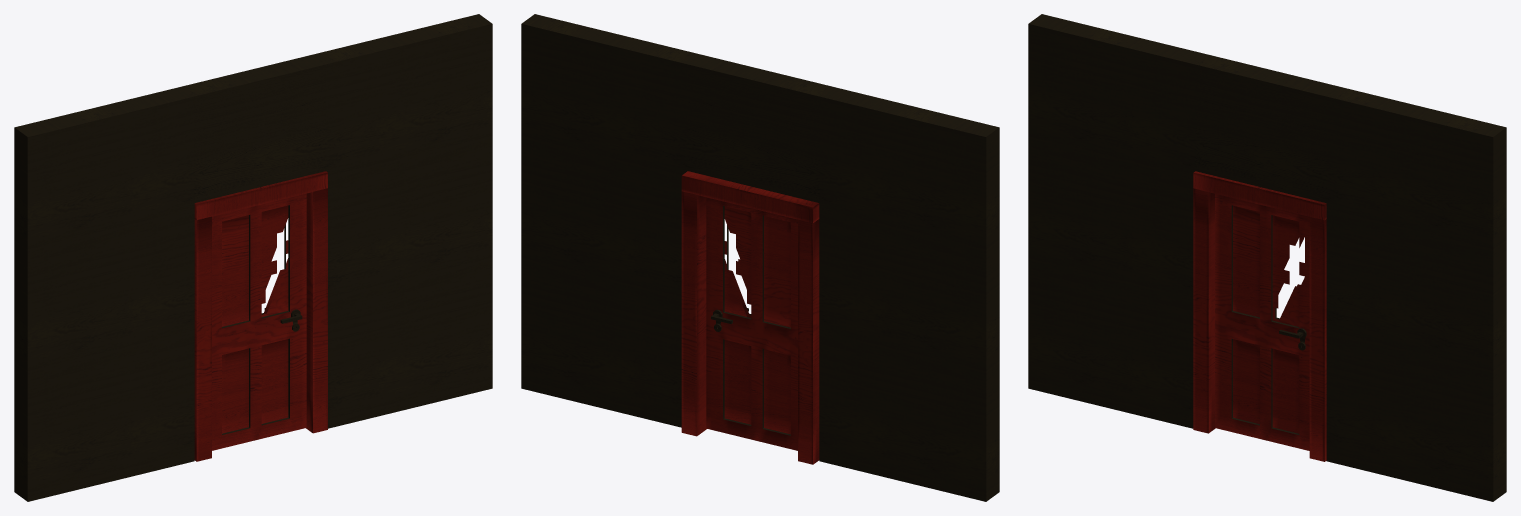
The model's file is Puerta Juego.fbx.
3 renders of one model, left to right at view 1: azimuth 30°, elevation 25°; view 2: azimuth 150°, elevation 25°; view 3: azimuth 330°, elevation 25°, orthographic.
Visible parts, largest first — view 1: Wall_Door_400x300, PORTA-ONGOING-more2____-_1_001, PORTA-ONGOING-more2____-_1_002, PORTA-ONGOING-more2____-_1; view 2: Wall_Door_400x300, PORTA-ONGOING-more2____-_1_001, PORTA-ONGOING-more2____-_1_002, PORTA-ONGOING-more2____-_1; view 3: Wall_Door_400x300, PORTA-ONGOING-more2____-_1_001, PORTA-ONGOING-more2____-_1_002, PORTA-ONGOING-more2____-_1.
Boxes of the visible parts, x1=… form: Wall_Door_400x300: x1=14, y1=14, x2=492, y2=501; PORTA-ONGOING-more2____-_1_001: x1=212, y1=193, x2=306, y2=450; PORTA-ONGOING-more2____-_1_002: x1=194, y1=171, x2=327, y2=461; PORTA-ONGOING-more2____-_1: x1=222, y1=205, x2=289, y2=434; Wall_Door_400x300: x1=521, y1=14, x2=999, y2=501; PORTA-ONGOING-more2____-_1_001: x1=706, y1=197, x2=797, y2=450; PORTA-ONGOING-more2____-_1_002: x1=681, y1=171, x2=819, y2=464; PORTA-ONGOING-more2____-_1: x1=723, y1=206, x2=790, y2=435; Wall_Door_400x300: x1=1028, y1=14, x2=1506, y2=501; PORTA-ONGOING-more2____-_1_001: x1=1215, y1=194, x2=1309, y2=450; PORTA-ONGOING-more2____-_1_002: x1=1193, y1=171, x2=1326, y2=461; PORTA-ONGOING-more2____-_1: x1=1231, y1=205, x2=1299, y2=434.
Bounding box in the file's own units: 400 × 300 × 31.98.
